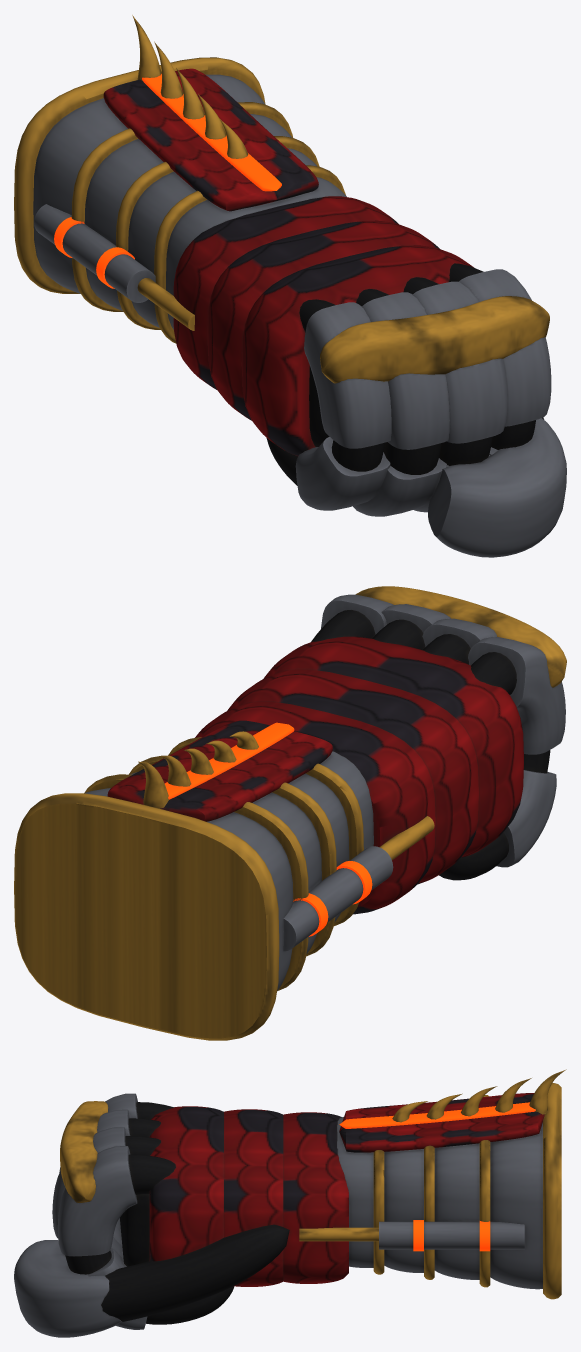
Rendered from dragon_gauntlet_R_hd.glb.
The picture shows the model from 3 angles, top to bottom: view 1: azimuth 30°, elevation 25°; view 2: azimuth 150°, elevation 25°; view 3: azimuth 270°, elevation 25°; orthographic projection. The views are drawn at different scales.
Visible parts, largest first — view 1: Weapon; view 2: Weapon; view 3: Weapon.
Boxes of the visible parts, x1,y1,x2,y2 form: Weapon: (14,15,566,557); Weapon: (14,586,566,1040); Weapon: (14,1069,566,1337).
Bounding box in the file's own units: 0.3657 × 0.3973 × 0.835.
1 material, 1 textured.
